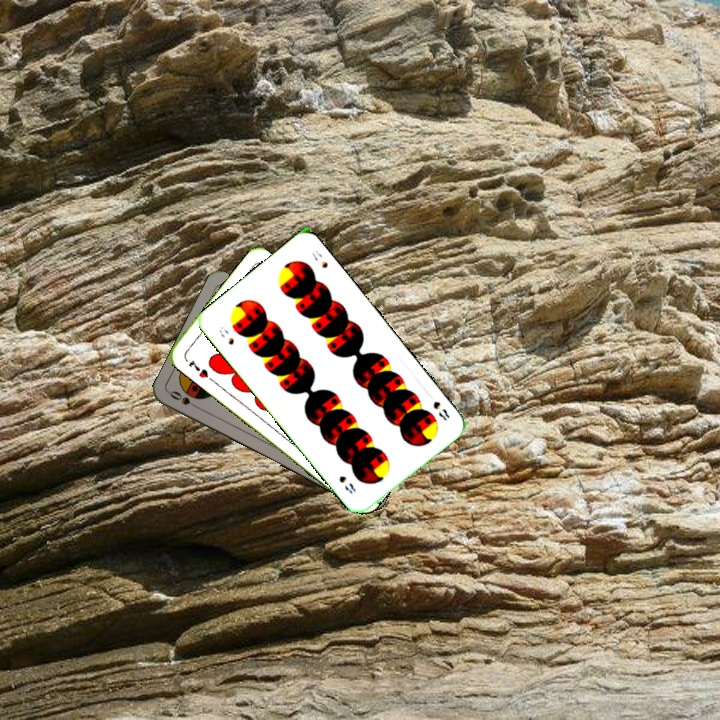H7: (184, 356, 211, 380)
S8: (429, 397, 452, 423), (215, 322, 237, 347)
SO: (165, 387, 203, 412)
